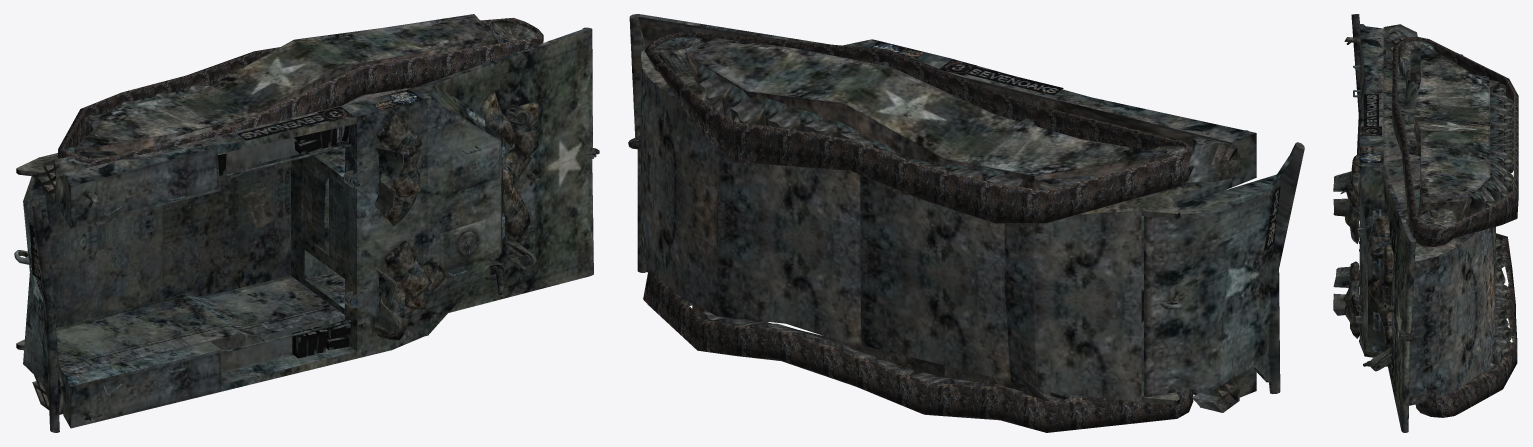
The model's file is vehicle_ltv4_buffalo_d.glb.
3 views of the same model, side by side, from view 1: azimuth 30°, elevation 25°; view 2: azimuth 150°, elevation 25°; view 3: azimuth 270°, elevation 25° (orthographic). The views are drawn at different scales.
Size of the model in its own units: 338 by 147 by 114.
3 materials, 3 textured.
